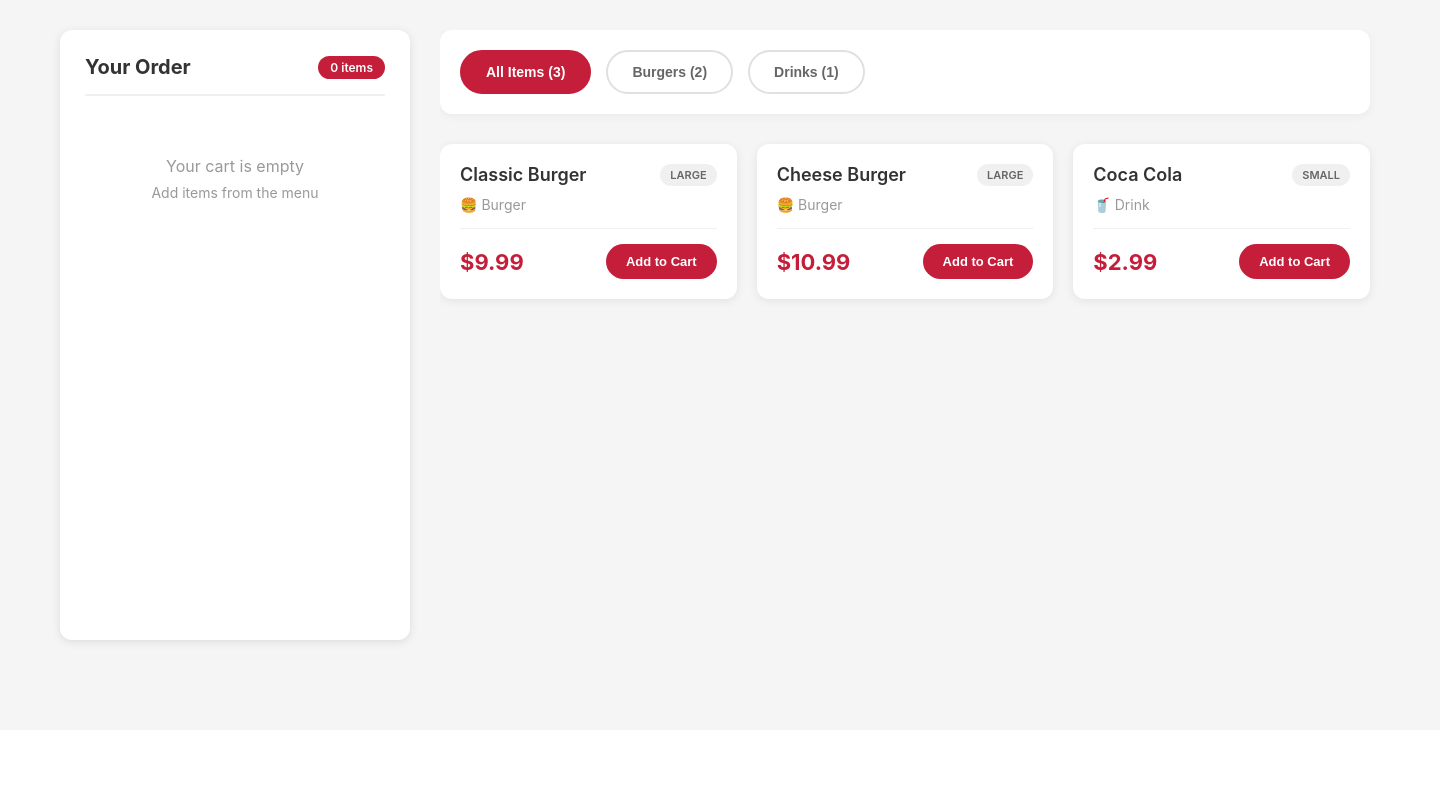
Test case: Integration: Complete Order Flow › should calculate correct totals for multiple items
Click the button with class "menu-item-add-btn" next to "9.99" at point(661, 262), box [606, 244, 717, 279]
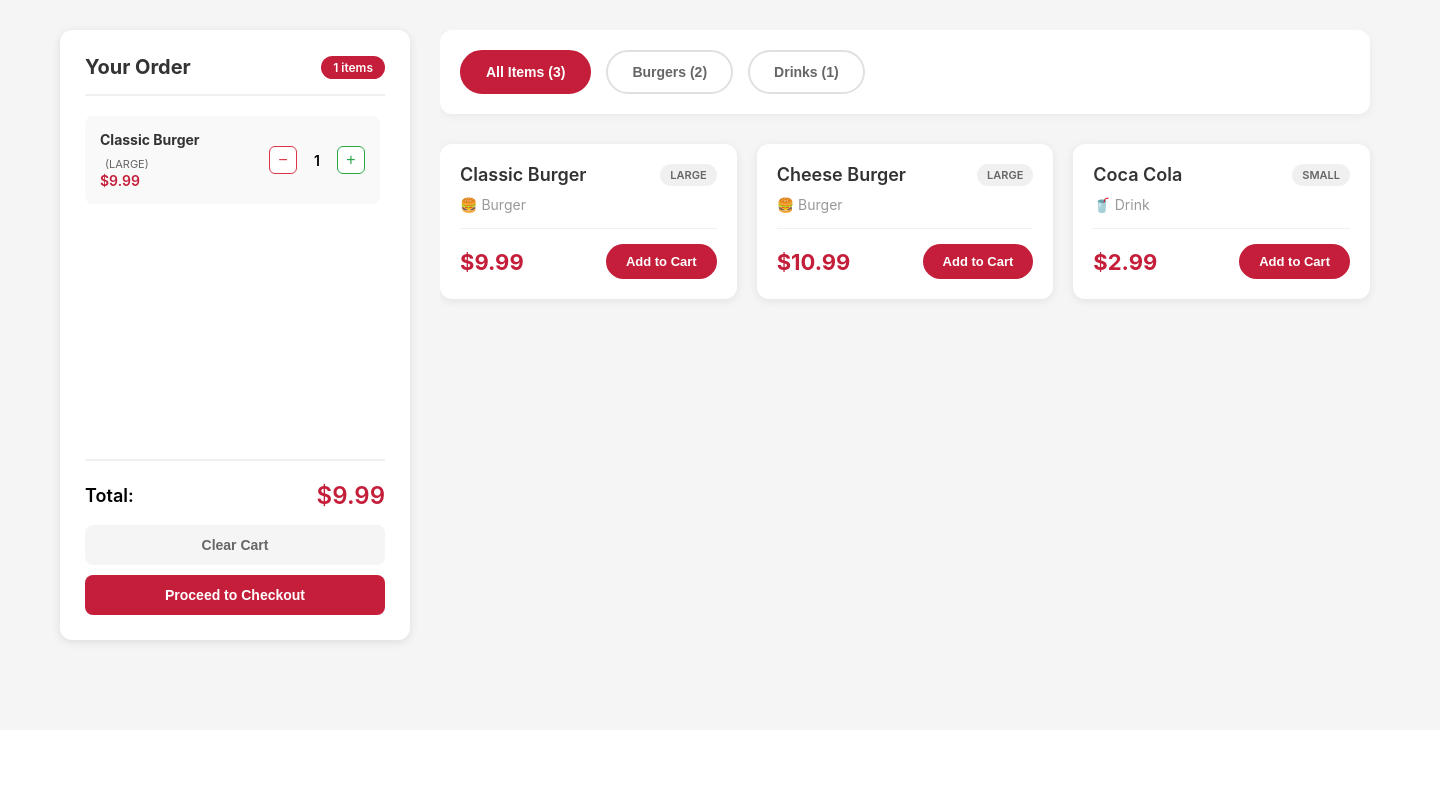
Click the 1st button with class "menu-item-add-btn" at point(661, 262), box [606, 244, 717, 279]
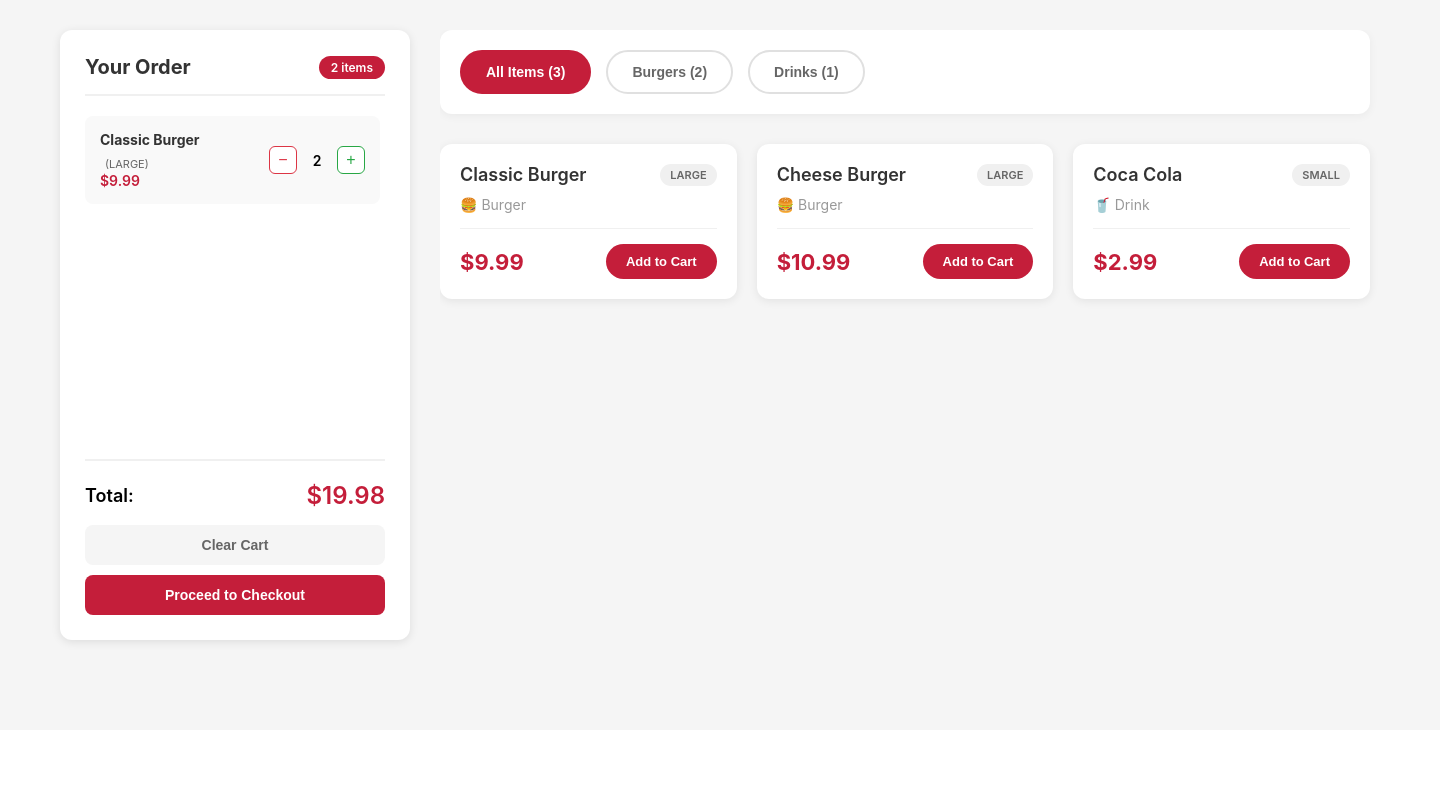
Click the 1st button with class "menu-item-add-btn" at point(661, 262), box [606, 244, 717, 279]
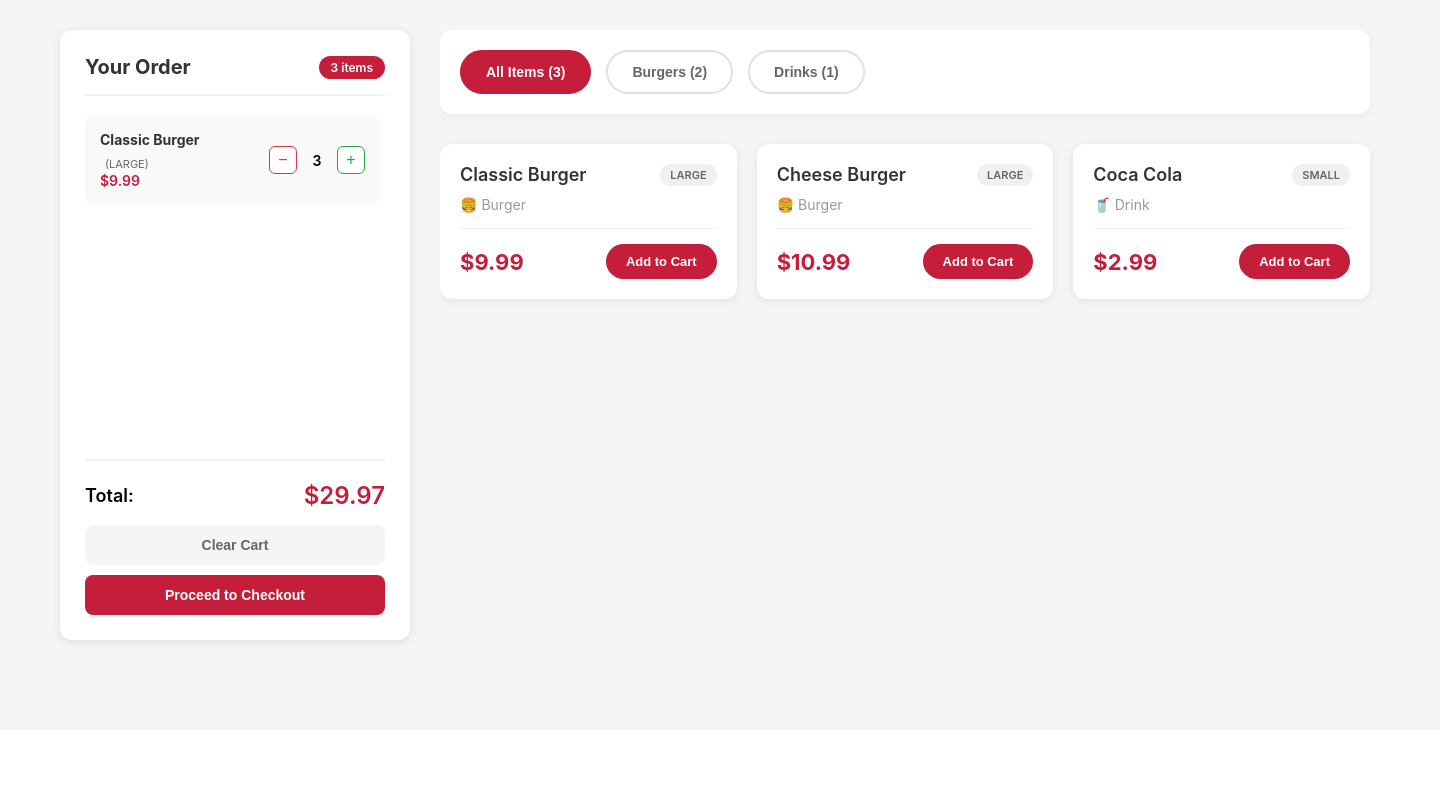
Click the button with class "menu-item-add-btn" next to "2.99" at point(1295, 262), box [1239, 244, 1350, 279]
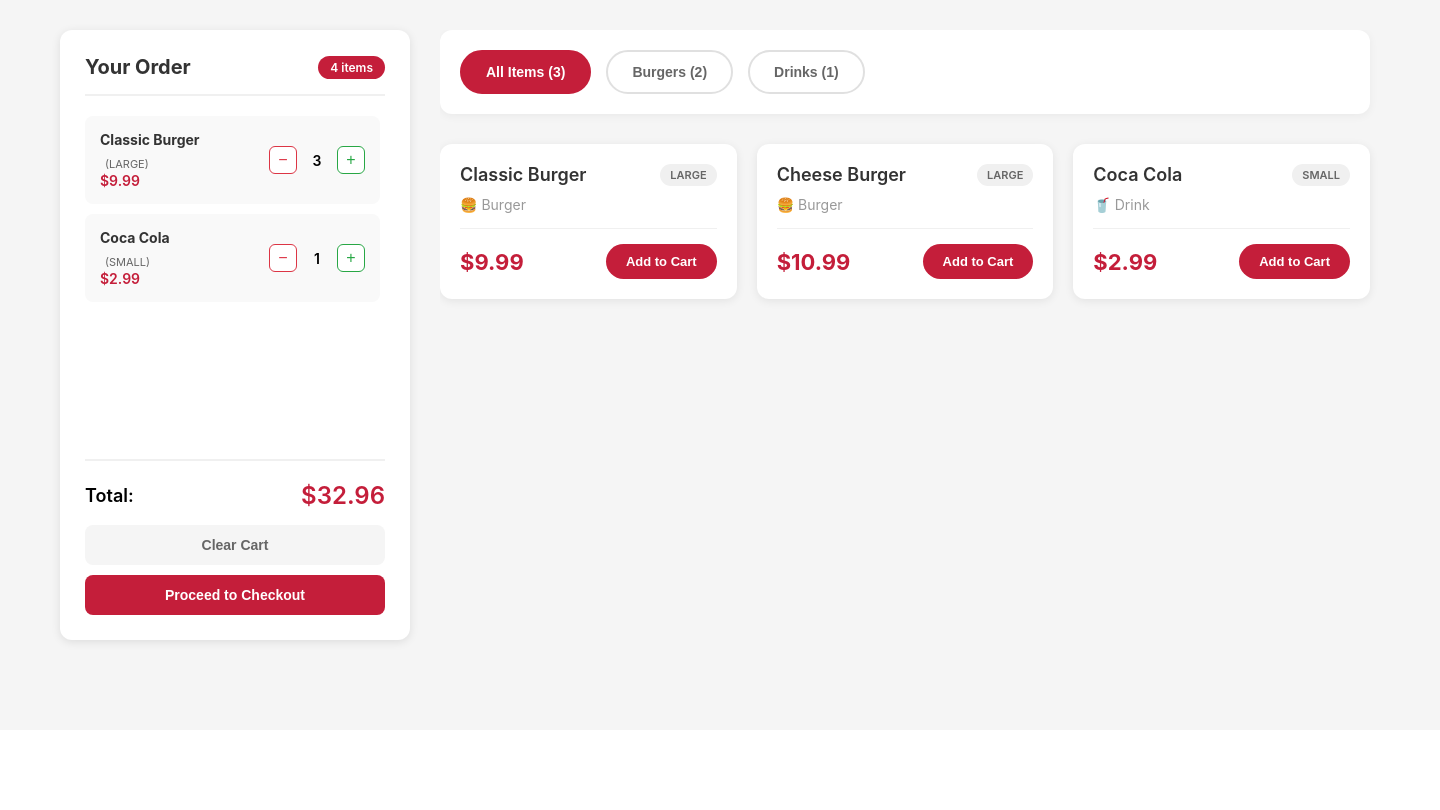
Click the button with class "menu-item-add-btn" below "🥤 Drink" at point(1295, 262), box [1239, 244, 1350, 279]
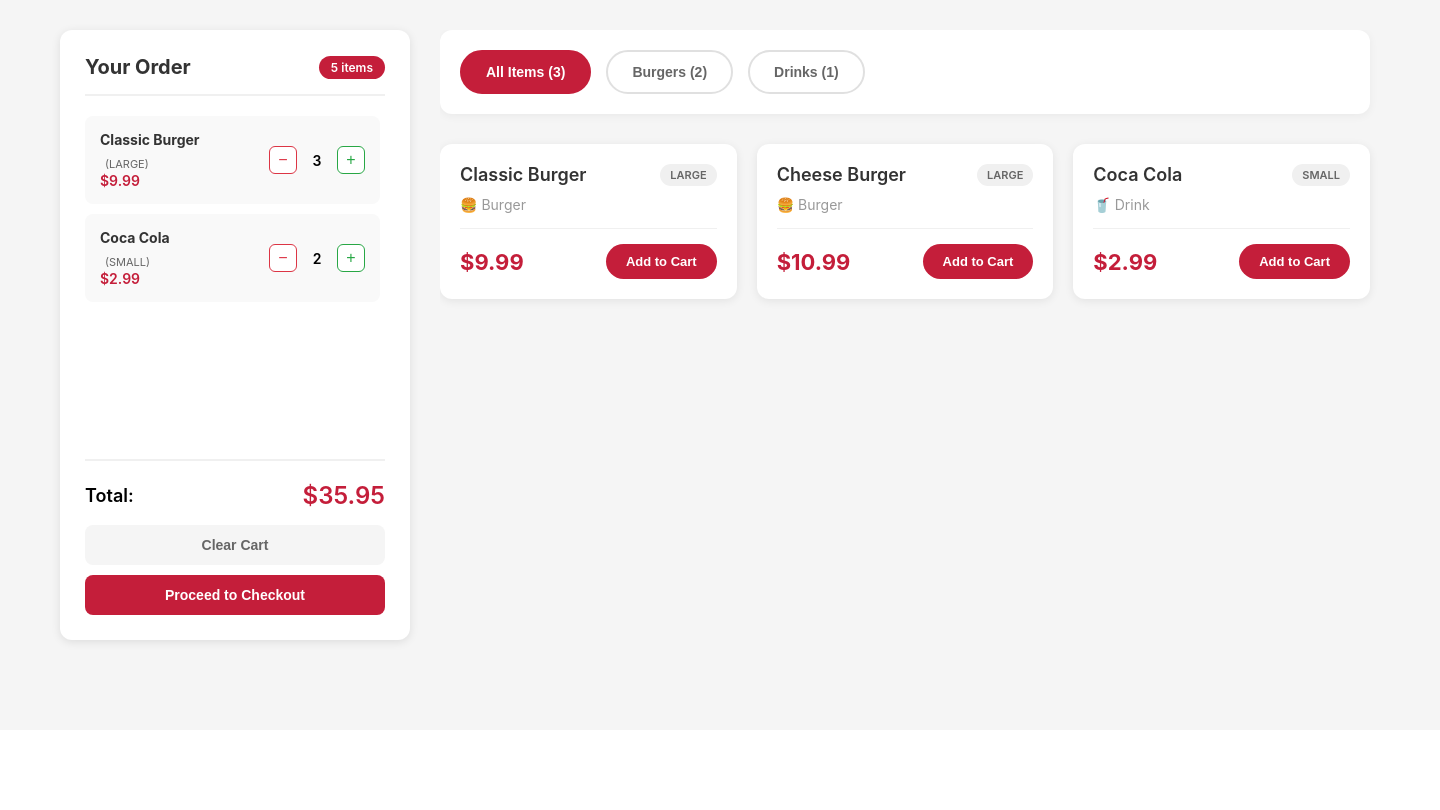
Expected: the text "$35.95" is shown, [303, 481, 385, 510]
Expected: the text "5 items" is shown, [319, 56, 385, 78]
